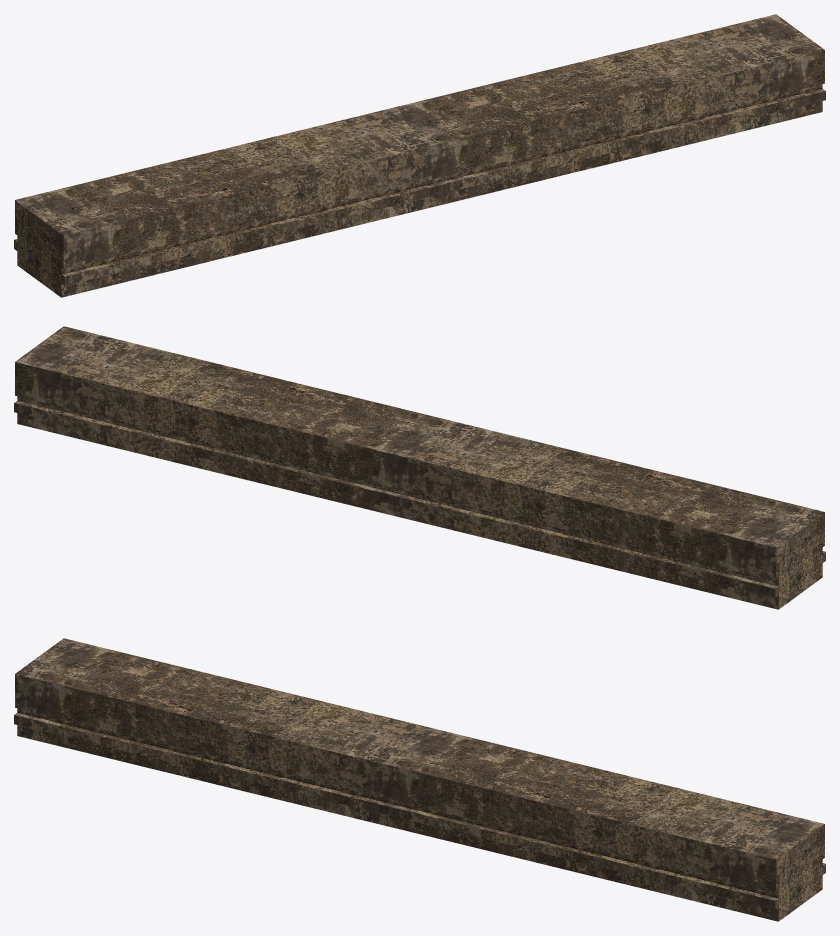
File: materials_5_stonestick_middle_7.fbx
The picture shows the model from 3 angles, top to bottom: view 1: azimuth 30°, elevation 25°; view 2: azimuth 150°, elevation 25°; view 3: azimuth 330°, elevation 25°; orthographic projection.
Visible parts, largest first — view 1: materials_5_stonestick_middle_7; view 2: materials_5_stonestick_middle_7; view 3: materials_5_stonestick_middle_7.
Boxes of the visible parts, x1,y1,x2,y2 form: materials_5_stonestick_middle_7: (14, 14, 825, 297); materials_5_stonestick_middle_7: (14, 326, 825, 609); materials_5_stonestick_middle_7: (14, 638, 825, 921).
Size of the model in its own units: 210 by 16.8 by 24.21.
